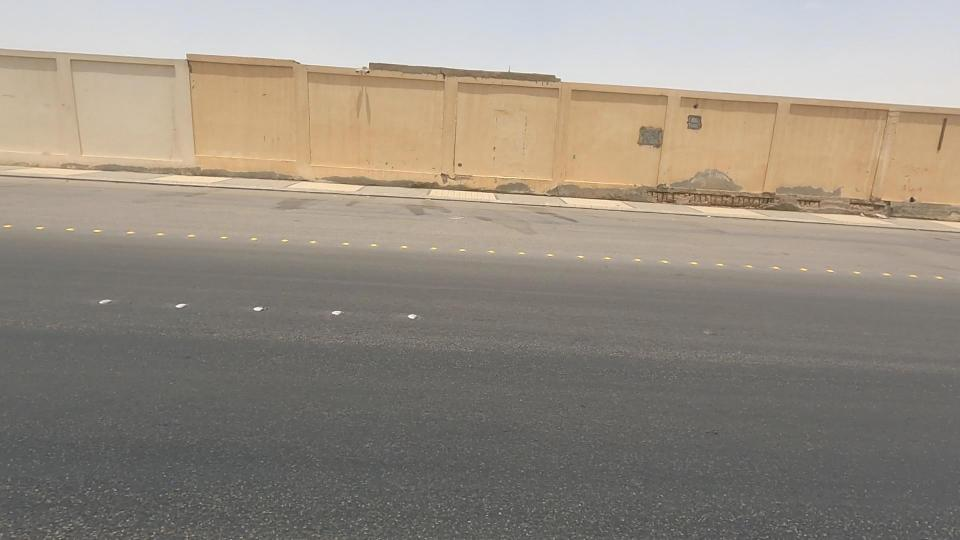UNKEPT_FACADE: (689, 147, 952, 247), (616, 126, 781, 244)
